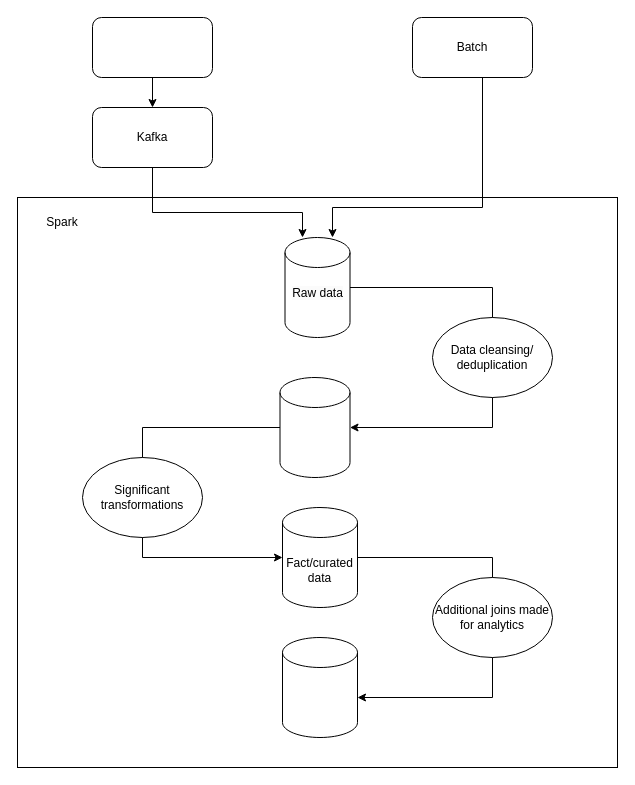
This 635x785 diagram has some shape labels left out. Each missing label, with the box of its shape:
Events: (92, 16, 212, 78)
Staging data: (279, 376, 350, 478)
View data: (282, 636, 358, 738)
